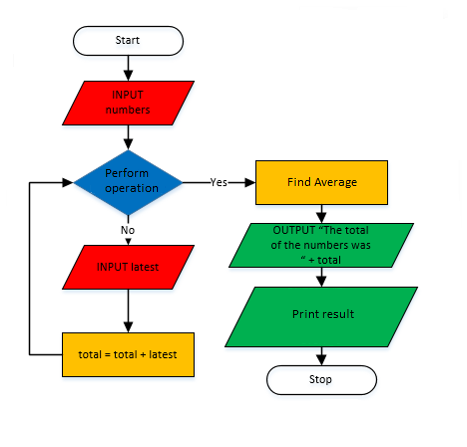arrow: (25, 177, 77, 357), (180, 177, 257, 188), (123, 287, 134, 333), (122, 213, 133, 245), (122, 121, 134, 150), (123, 53, 134, 82), (315, 202, 329, 222), (315, 265, 327, 286), (315, 344, 327, 364)
data: (223, 285, 420, 348), (226, 221, 417, 269), (59, 79, 198, 127), (60, 242, 195, 291)
decision: (71, 148, 184, 217)
process: (59, 329, 196, 380), (254, 157, 390, 206)
terminator: (71, 23, 186, 58), (265, 363, 378, 396)
text: (271, 223, 371, 265), (102, 165, 160, 196), (104, 88, 152, 116), (76, 348, 178, 361), (285, 175, 359, 189), (290, 306, 357, 319), (94, 260, 161, 273), (113, 32, 140, 47), (308, 373, 334, 387), (208, 175, 228, 187), (119, 223, 136, 235)
